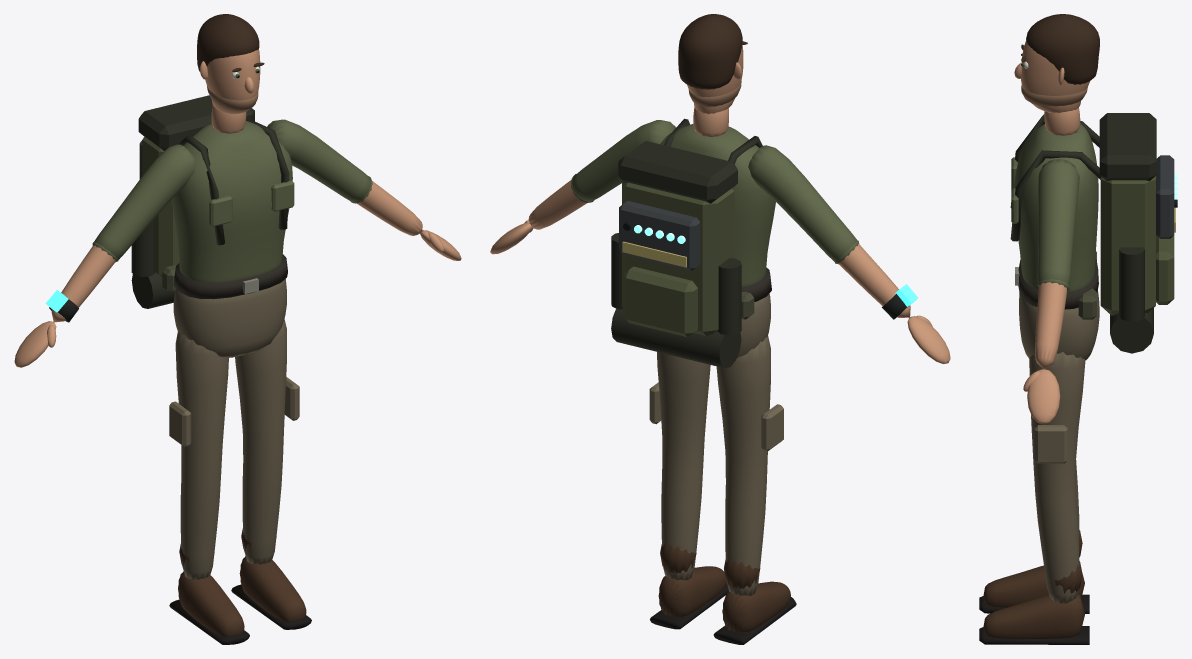
File: ethan_reed.glb
3 renders of one model, left to right at view 1: azimuth 30°, elevation 25°; view 2: azimuth 150°, elevation 25°; view 3: azimuth 270°, elevation 25°, orthographic. The views are drawn at different scales.
Parts seen in each view (by area): view 1: ethan_reed; view 2: ethan_reed; view 3: ethan_reed.
Part boxes in pixels (bbox=[...]): ethan_reed: bbox=[14, 14, 461, 644]; ethan_reed: bbox=[490, 14, 950, 644]; ethan_reed: bbox=[979, 14, 1177, 644].
Size of the model in its own units: 1.45 by 1.85 by 0.545.
